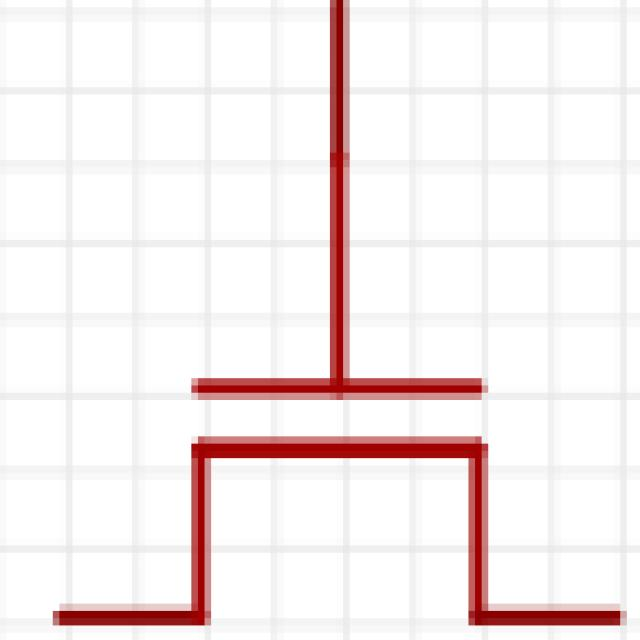nmos: (33, 29, 594, 640)
